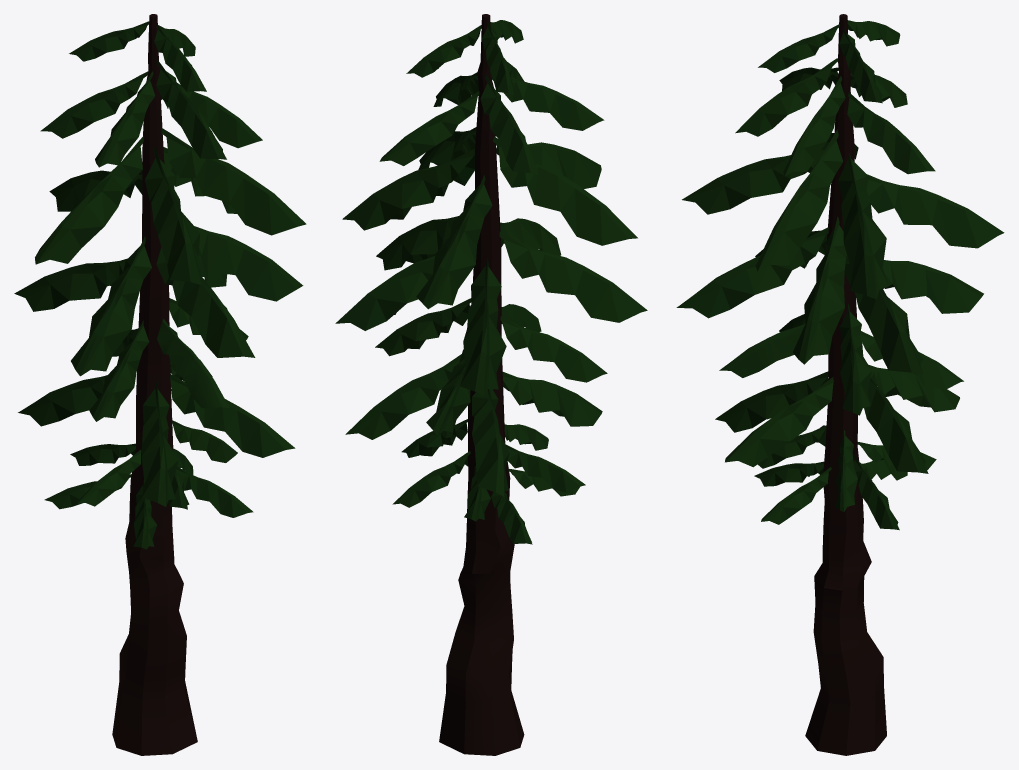
File: SM_Tree_6.FBX
The picture shows the model from 3 angles, left to right: view 1: azimuth 30°, elevation 25°; view 2: azimuth 150°, elevation 25°; view 3: azimuth 270°, elevation 25°; orthographic projection.
Parts seen in each view (by area): view 1: Tree_Trunk; view 2: Tree_Trunk; view 3: Tree_Trunk.
Part boxes in pixels (x1,y1,x2,y2): Tree_Trunk: (14,14,306,755); Tree_Trunk: (335,14,647,755); Tree_Trunk: (676,14,1004,755).
Bounding box in the file's own units: 434 × 1130 × 467.
